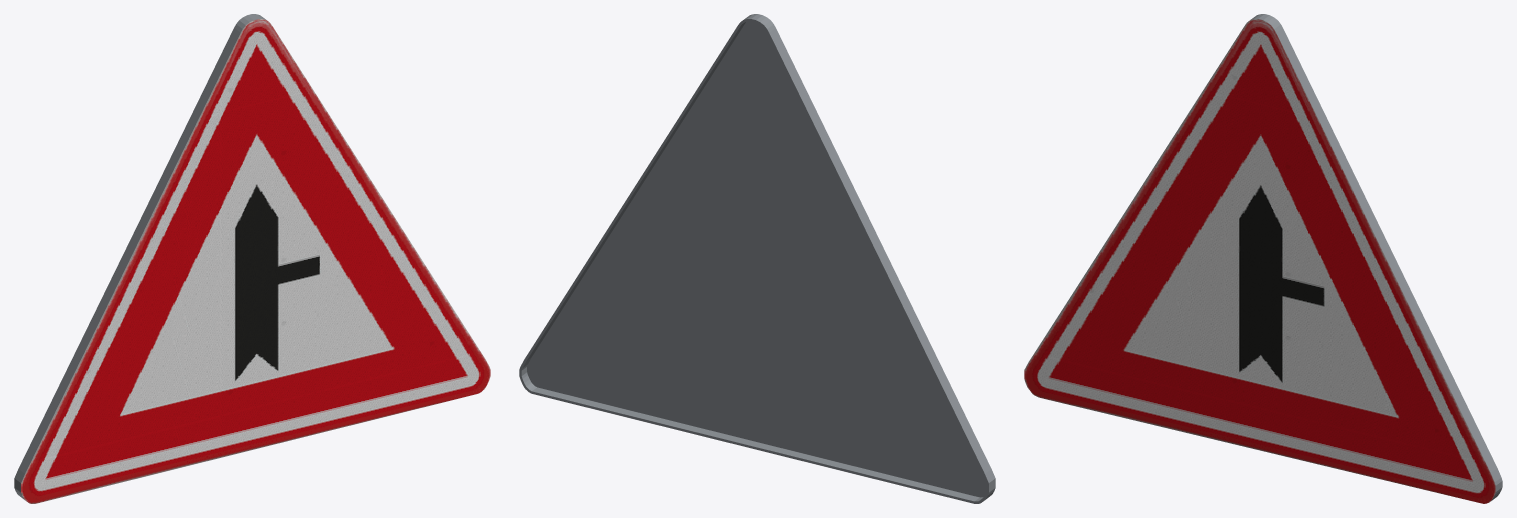
3 renders of one model, left to right at view 1: azimuth 30°, elevation 25°; view 2: azimuth 150°, elevation 25°; view 3: azimuth 330°, elevation 25°, orthographic.
Parts seen in each view (by area): view 1: cat_90e36e81792a653a; view 2: cat_90e36e81792a653a; view 3: cat_90e36e81792a653a.
Boxes of the visible parts, x1=… form: cat_90e36e81792a653a: x1=14, y1=14, x2=490, y2=503; cat_90e36e81792a653a: x1=519, y1=14, x2=995, y2=503; cat_90e36e81792a653a: x1=1024, y1=14, x2=1502, y2=503.
Bounding box in the file's own units: 0.6 × 0.015 × 0.5256.
Materials: 2 (1 with a texture image).
